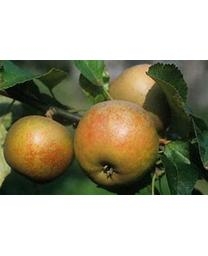apple: (74, 101, 158, 187), (3, 115, 74, 180), (108, 64, 156, 106)
